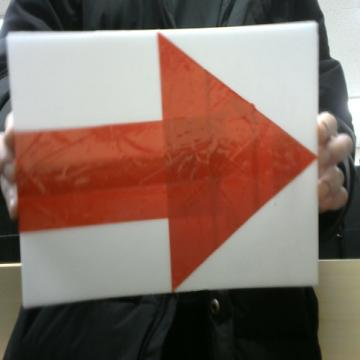red_right: (16, 34, 315, 290)
